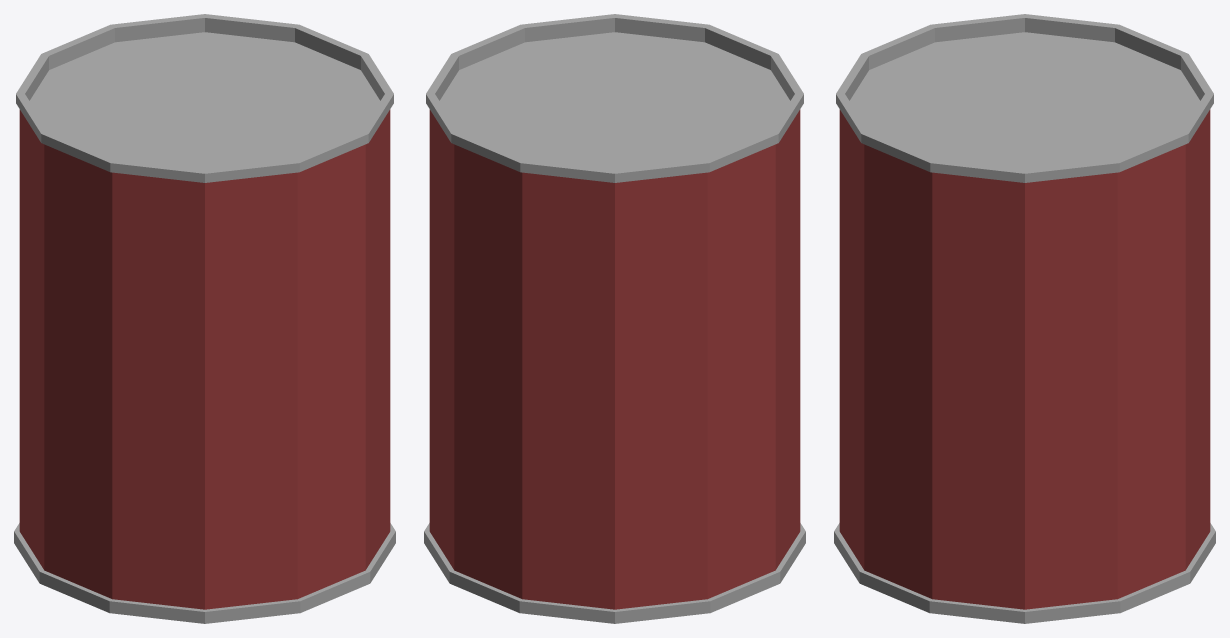
File: Canned_Meat_mat.fbx
3 renders of one model, left to right at view 1: azimuth 30°, elevation 25°; view 2: azimuth 150°, elevation 25°; view 3: azimuth 270°, elevation 25°, orthographic.
Parts seen in each view (by area): view 1: Canned_Meat_mat; view 2: Canned_Meat_mat; view 3: Canned_Meat_mat.
Boxes of the visible parts, box(x1,y1,x2,y2) form: Canned_Meat_mat: box(14, 14, 395, 623); Canned_Meat_mat: box(424, 14, 805, 623); Canned_Meat_mat: box(834, 14, 1215, 623).
Bounding box in the file's own units: 8 × 10.4 × 8.
